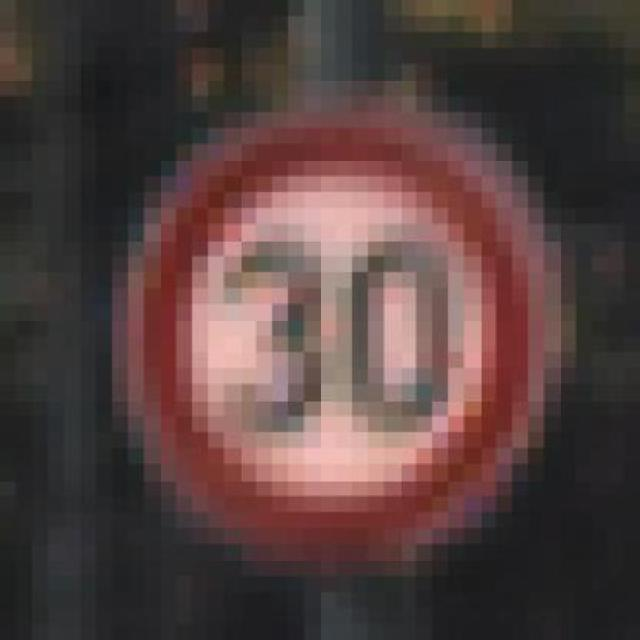Speed Limit 30 KMPh: (96, 95, 576, 560)
